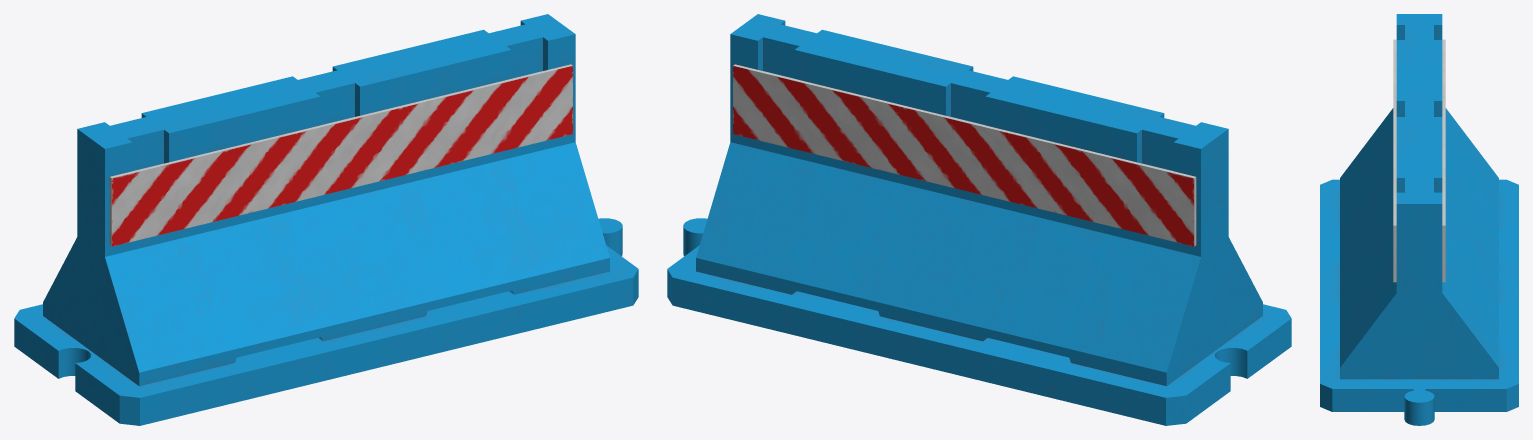
The model's file is barrier_f.obj.
3 renders of one model, left to right at view 1: azimuth 30°, elevation 25°; view 2: azimuth 150°, elevation 25°; view 3: azimuth 270°, elevation 25°, orthographic. The views are drawn at different scales.
Size of the model in its own units: 2.26 by 0.9363 by 0.8494.
